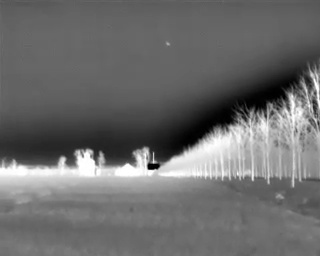BIRD: (164, 39, 172, 48)
